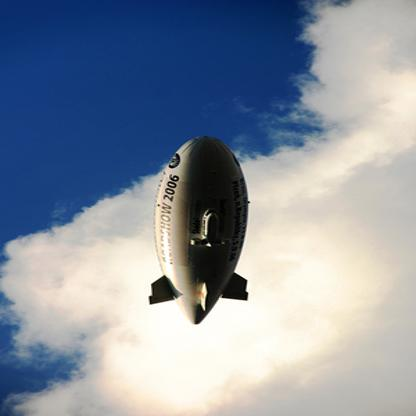Airship: (148, 133, 255, 328)
